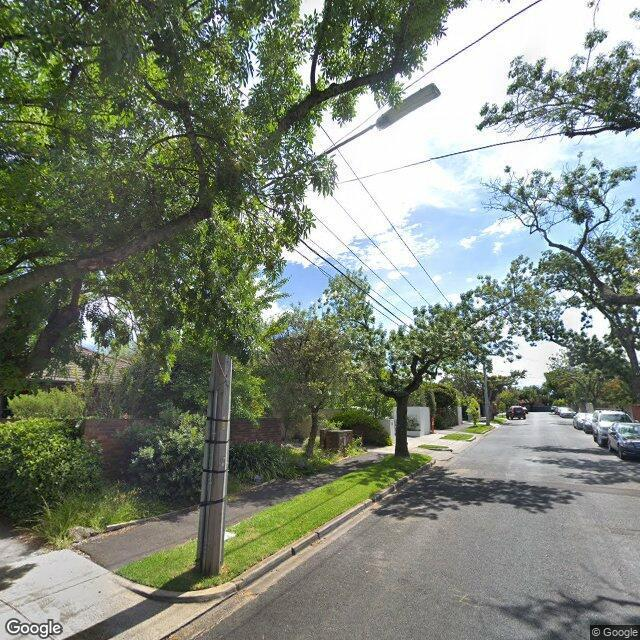streetlight: (257, 82, 440, 192)
timber-pole: (194, 351, 232, 576), (483, 362, 489, 425)
